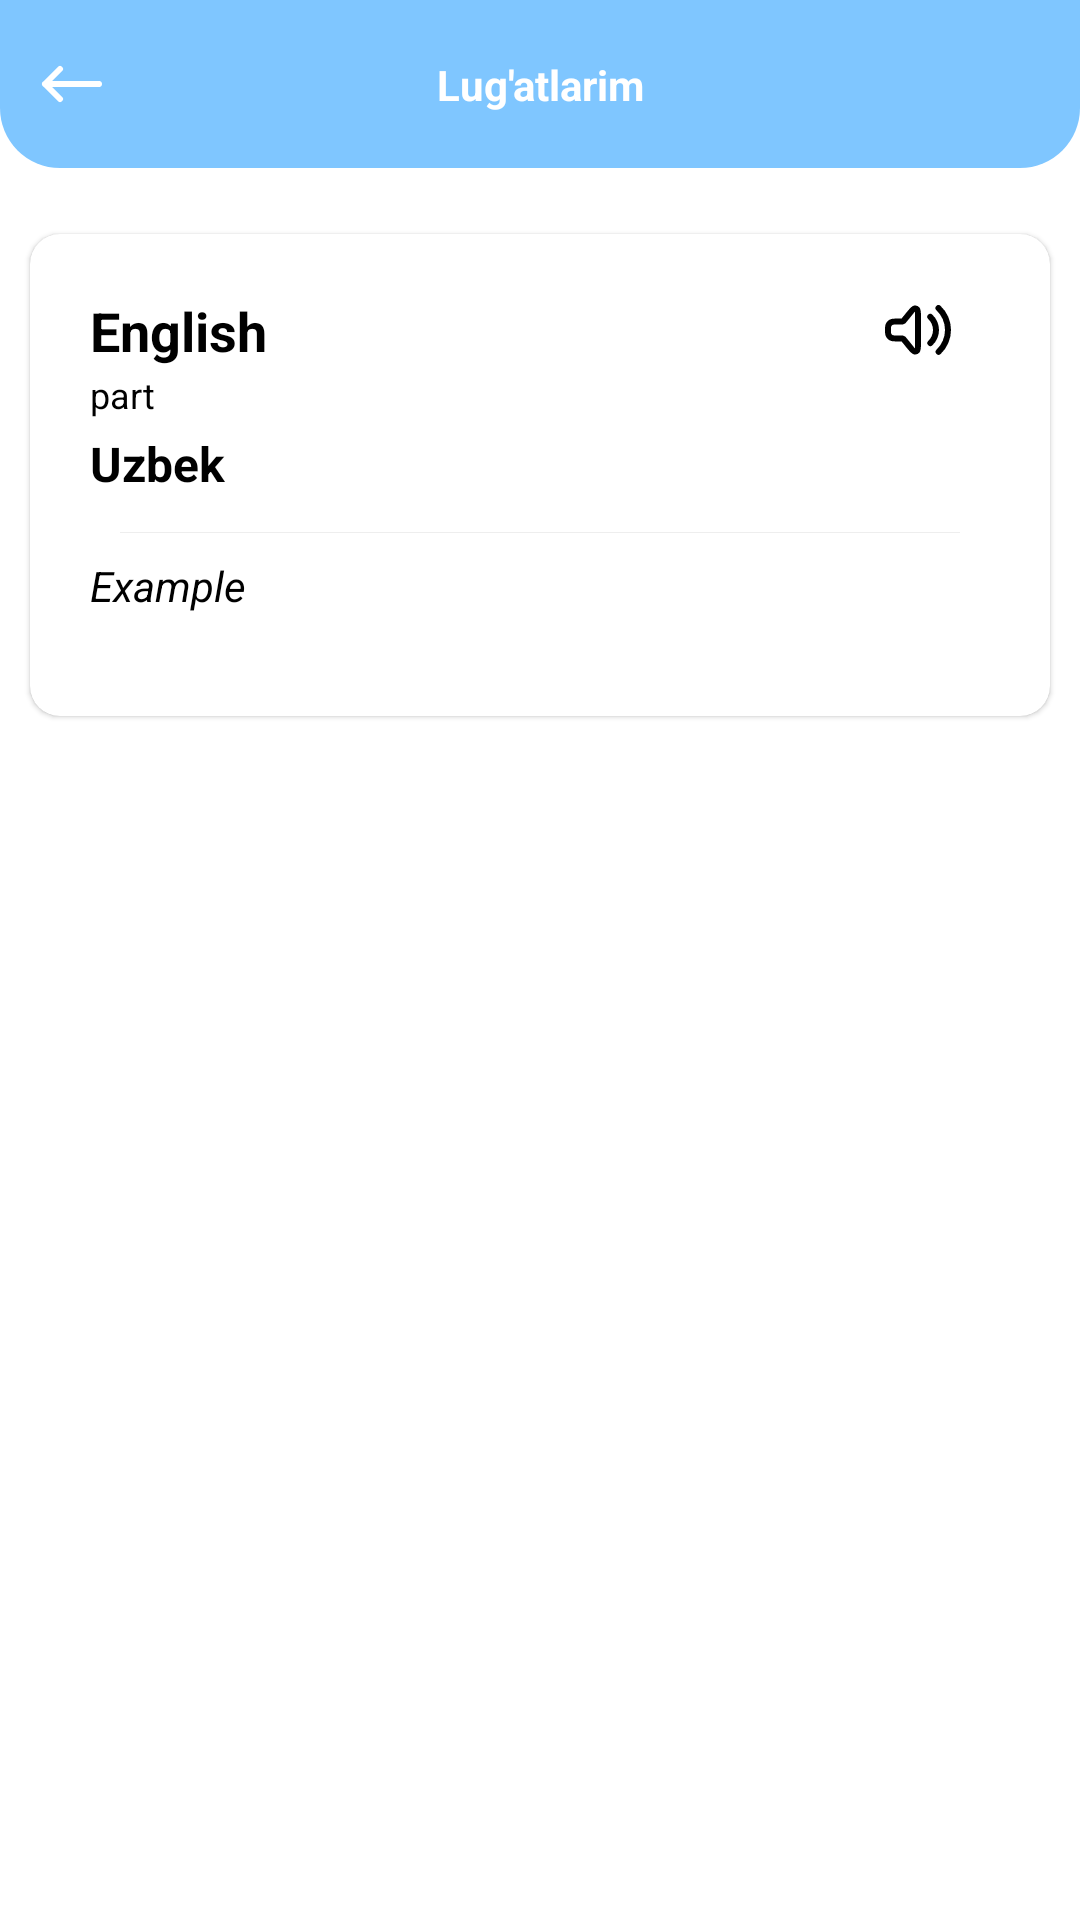

Locate icon controls on the screen. Image size 1080px×1920px, boxes as detection(x1, y1, x2, y2).
arrow left: detection(42, 66, 102, 102)
